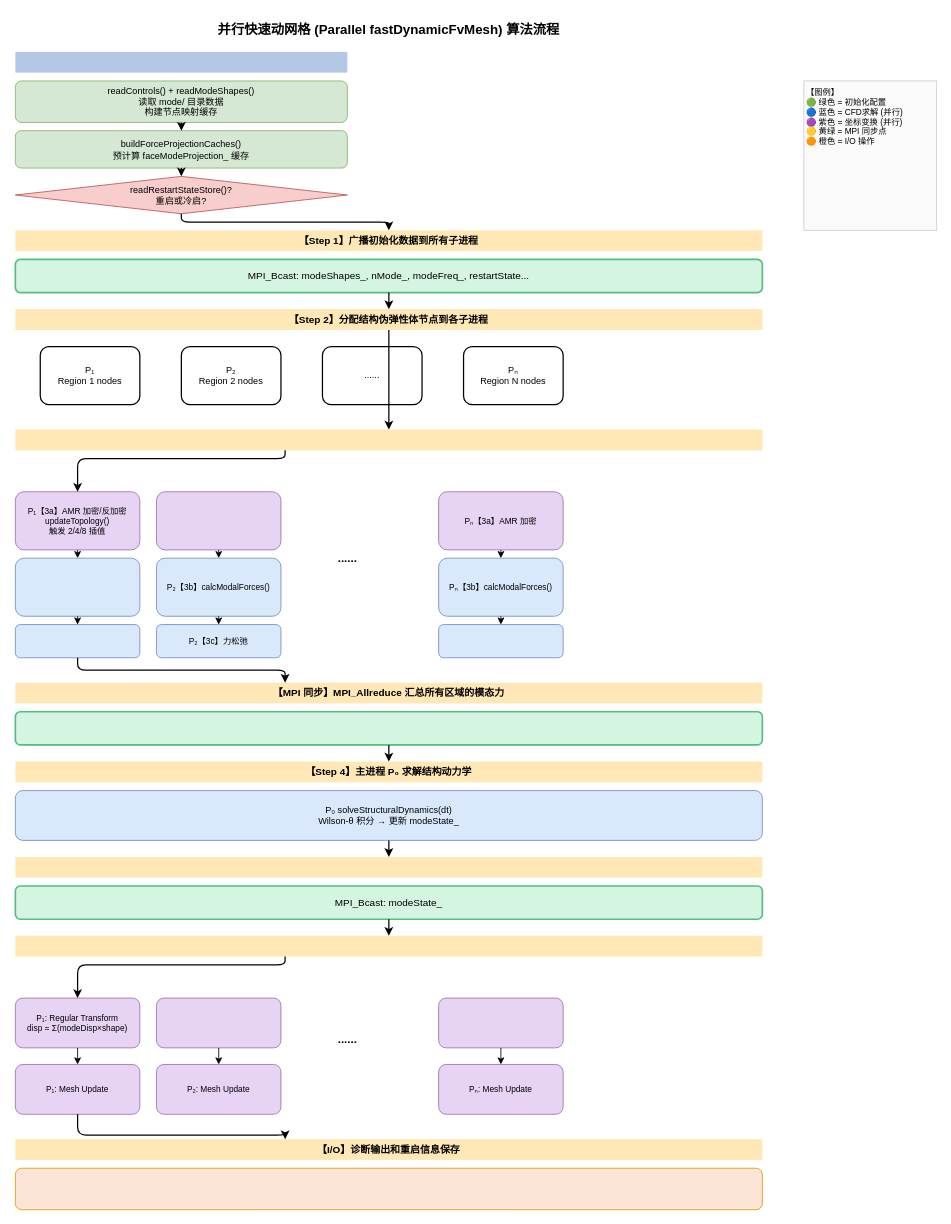
Some shapes in this 951 by 1224 pixel diagram are drawn without their labels. The shapes that lost their labels are listed below. From the top down, each one's box as (x1, y1, x2, y2) in pixels, then its label:
(15, 51, 347, 72): 【全局初始化】P₀ 主进程 (Serial)
(15, 429, 762, 450): 【Step 3-4】时间步进循环：每个时间步各子进程并行求解
(156, 491, 281, 550): P₂【3a】AMR 加密 updateTopology()
(15, 557, 140, 616): P₁【3b】calcModalForces() 读 p 字段 投影到模态坐标
(15, 624, 140, 658): P₁【3c】力松弛
(438, 624, 563, 658): Pₙ【3c】力松弛
(14, 710, 763, 745): MPI_Allreduce(modeForce_local, modeForce_global, sumOp)
(15, 857, 762, 877): 【Step 5】广播模态位移到所有子进程
(15, 935, 762, 956): 【Step 6】各子进程执行区域网格更新和变换
(156, 997, 281, 1048): P₂: Regular Transform
(438, 997, 563, 1048): Pₙ: Regular Transform
(15, 1167, 762, 1210): P₀: writeDiagnostics() + writeRestartStateStore()
